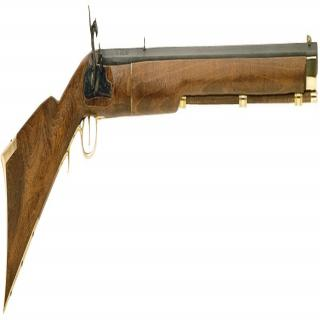gun: (2, 6, 318, 305)
